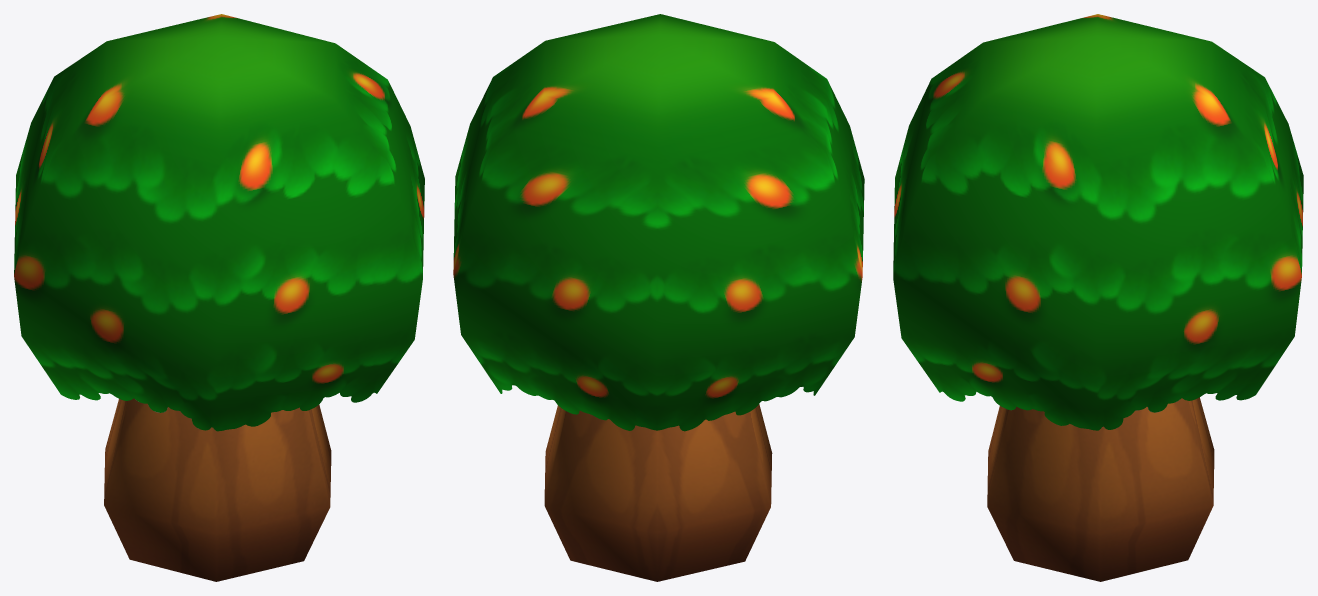
The model's file is Shrub_03.FBX.
The picture shows the model from 3 angles, left to right: view 1: azimuth 30°, elevation 25°; view 2: azimuth 150°, elevation 25°; view 3: azimuth 270°, elevation 25°; orthographic projection.
Parts seen in each view (by area): view 1: Shrub_03; view 2: Shrub_03; view 3: Shrub_03.
Boxes of the visible parts, x1=… form: Shrub_03: x1=14, y1=14, x2=424, y2=581; Shrub_03: x1=453, y1=14, x2=864, y2=581; Shrub_03: x1=893, y1=14, x2=1303, y2=581.
Bounding box in the file's own units: 1.22 × 1.44 × 1.06.
